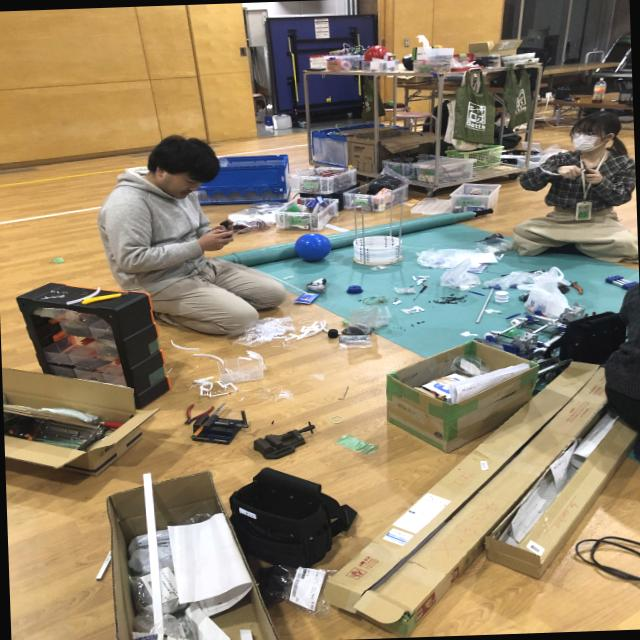blue_ball: (294, 232, 335, 262)
red_ball: (356, 42, 394, 63)
